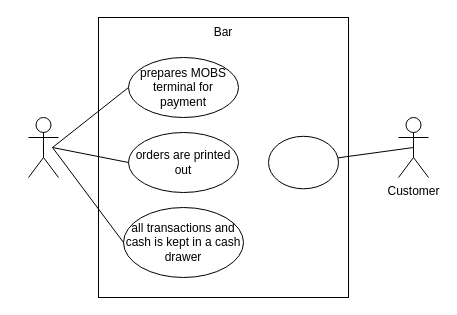
Image size: 457x315. Some labels were removed from this diagram. The shapes that lost their labels are listed below. From the top down, each one's centre as x and y in pixels, then its label:
the point at 43,147: Bartender
the point at 303,162: wants to pay
